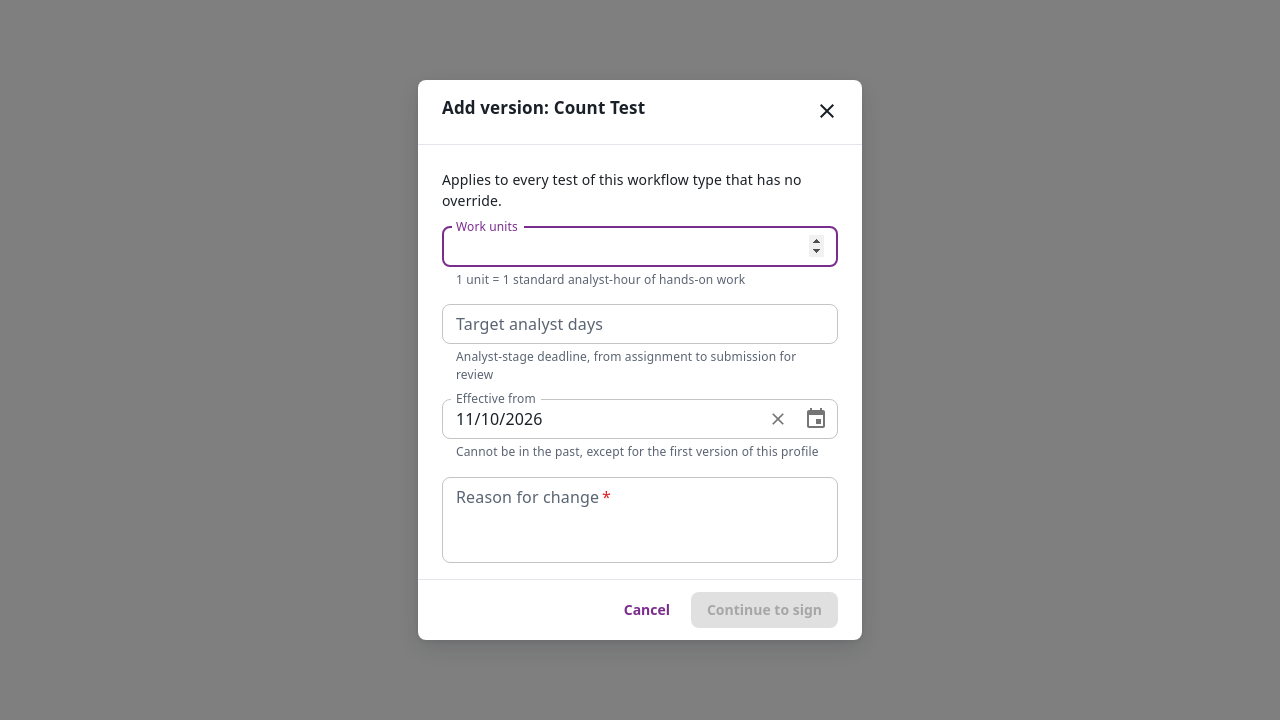
Test: AddProfileVersionDialog › keeps Continue to sign disabled until a value and a reason are entered
Expected: the button "Continue to sign" is disabled, [691,592,838,628]
Type "2" into the number field labelled "Work units" at [640, 247], box [442,227,838,267]
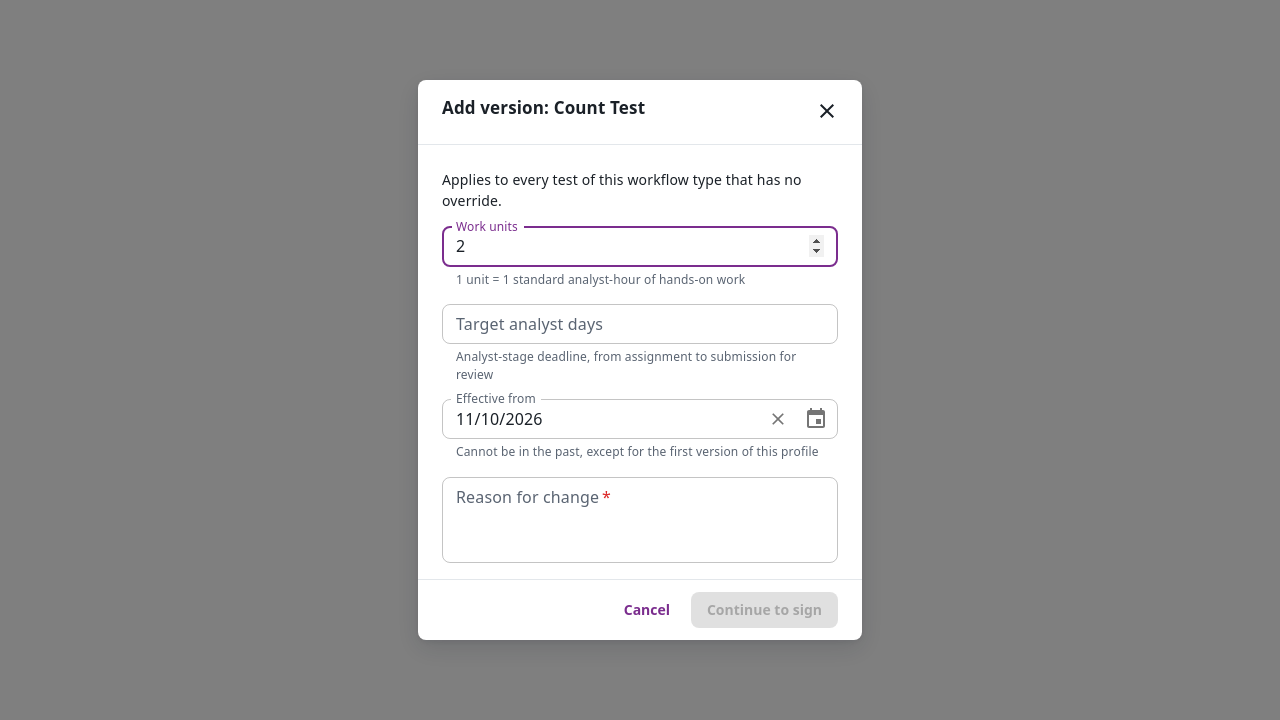
Expected: the button "Continue to sign" is disabled, [691,592,838,628]
Type "SOP time study" into the text box labelled "Reason for change *" at [640, 520], box [456,485,824,554]
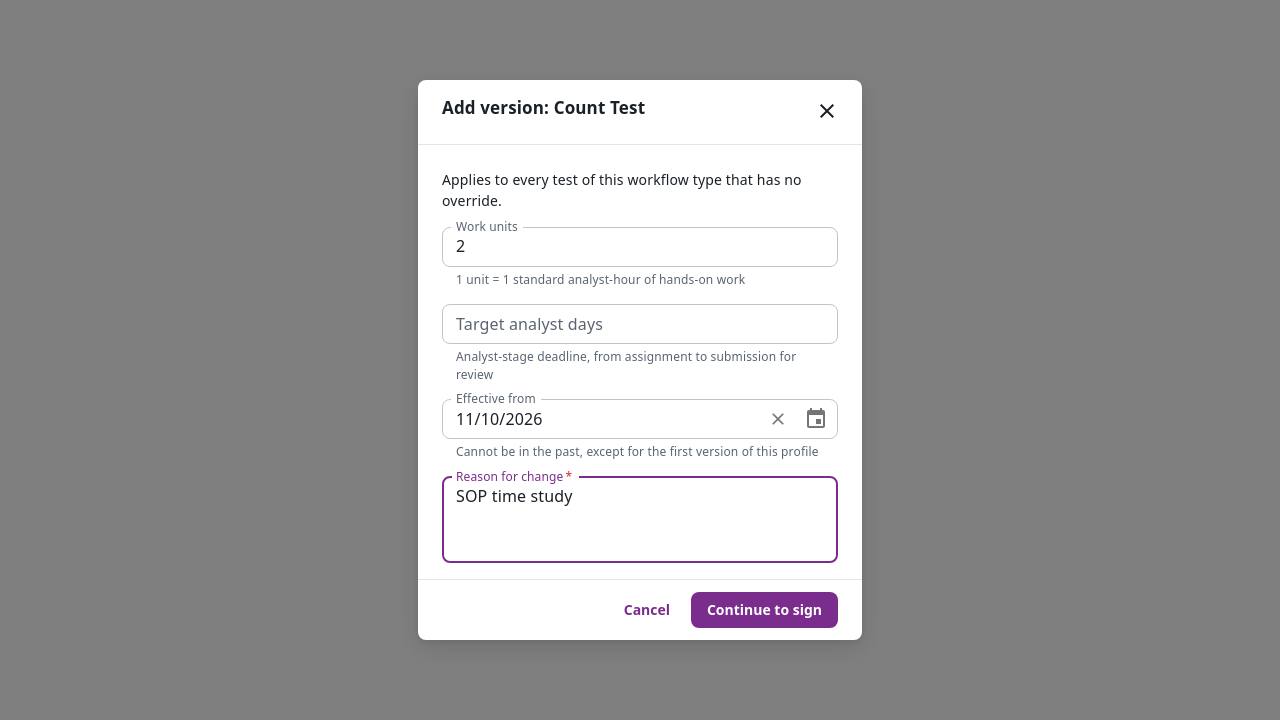
Now the button "Continue to sign" is enabled, box [691,592,838,628]
